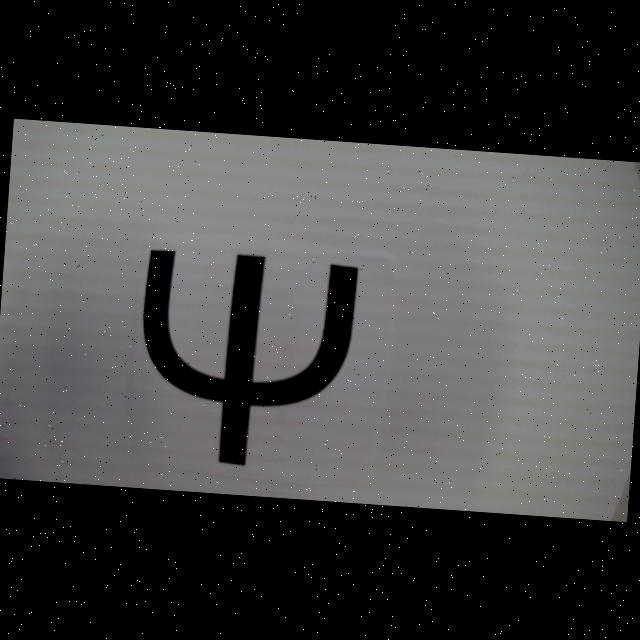PSI: (134, 246, 360, 474)
